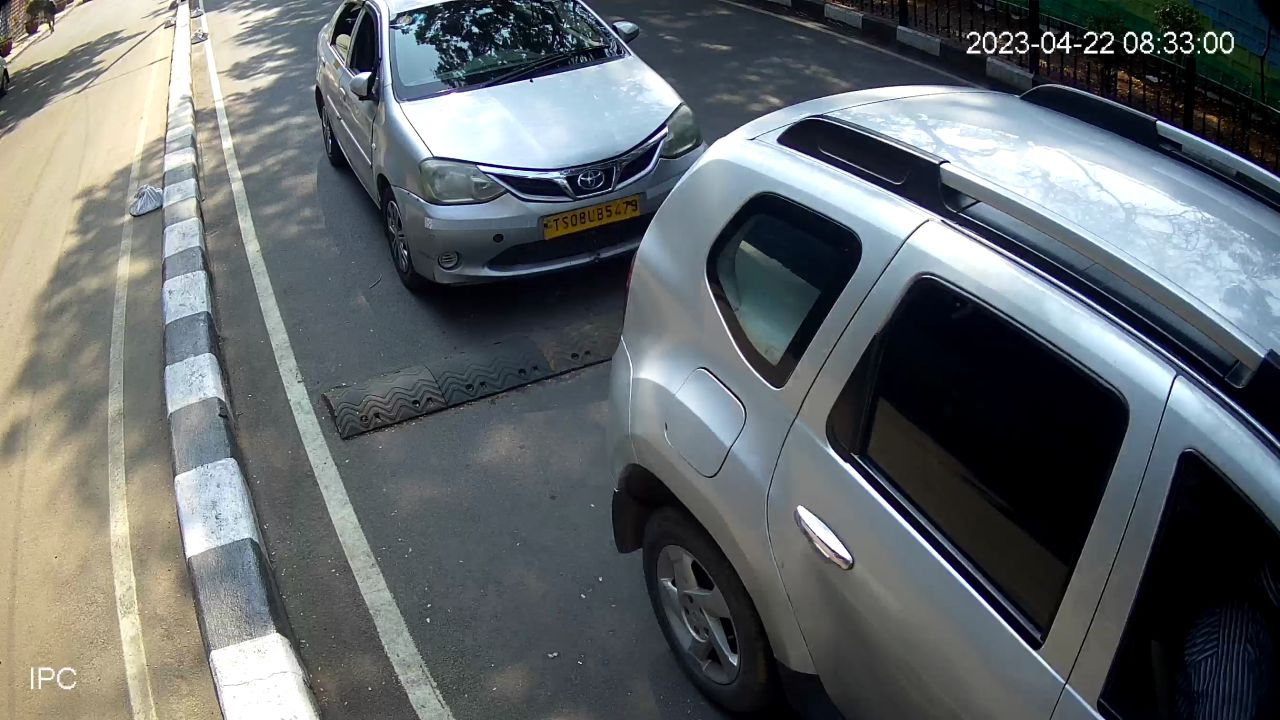license_plate: (535, 187, 650, 250)
